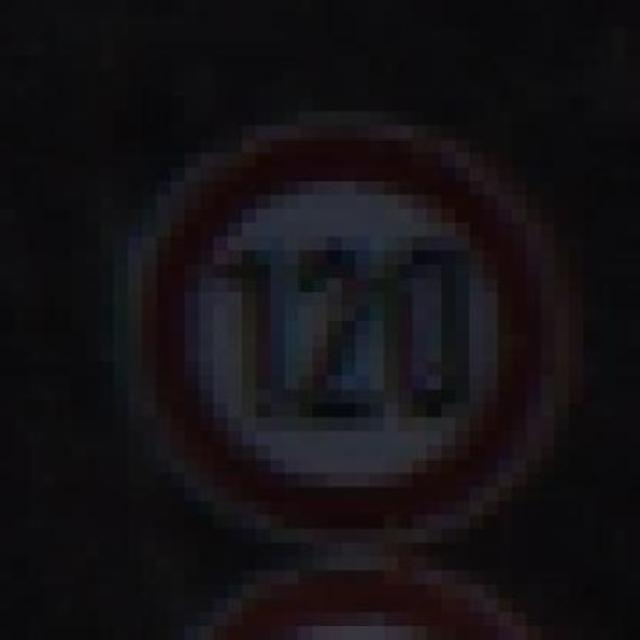forb_speed_over_120: (139, 124, 555, 547)
